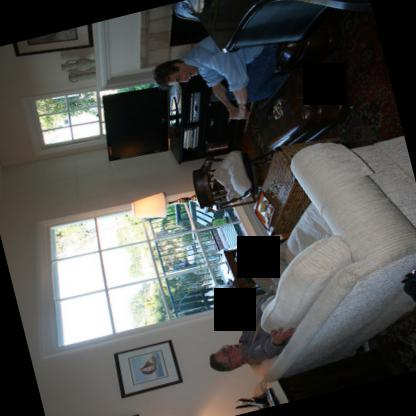backpack: (401, 267, 416, 301)
